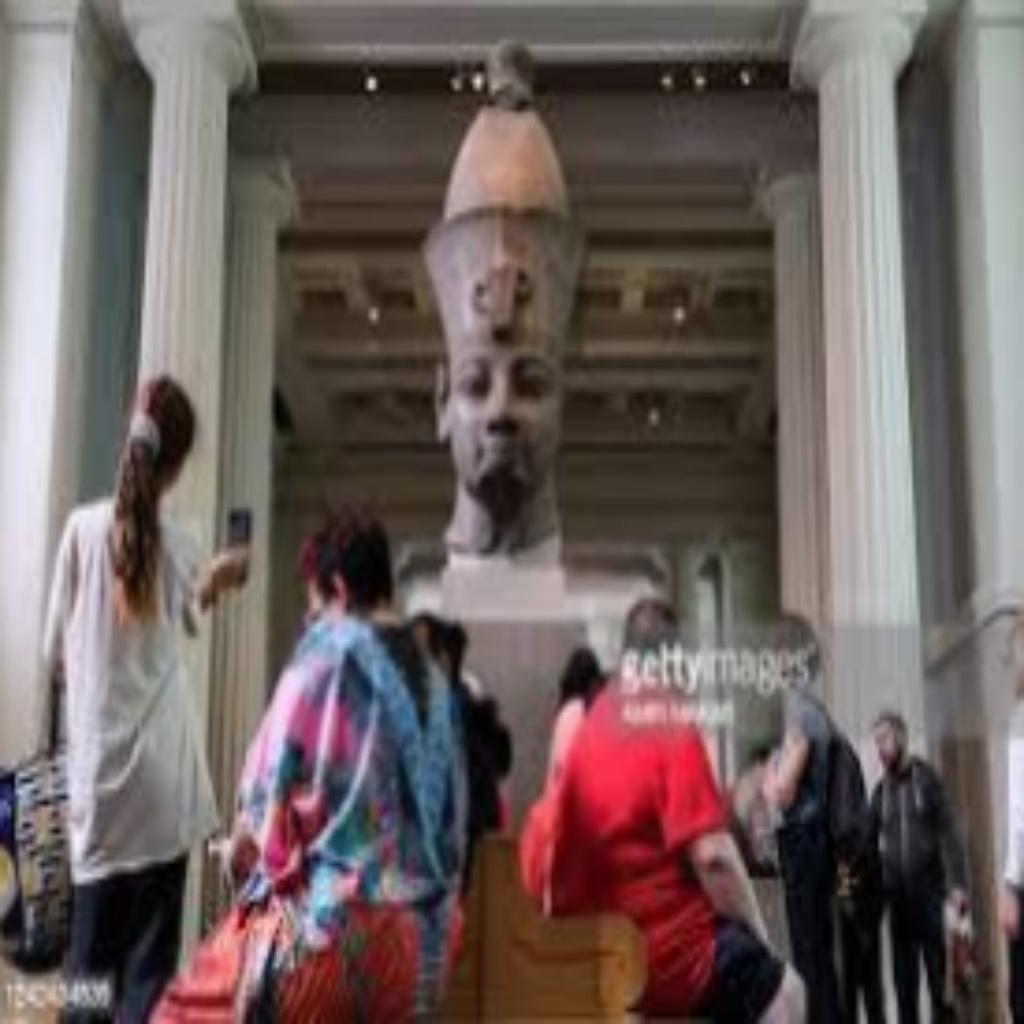Head Statue of Amenhotep iii: (410, 34, 596, 582)
